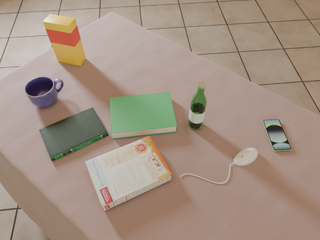book: (39, 107, 108, 161), (110, 92, 177, 139)
bottle: (188, 82, 206, 130)
box: (85, 136, 172, 211), (43, 14, 86, 66)
cup: (25, 77, 64, 107)
mouse: (234, 148, 258, 165)
phone: (263, 119, 291, 151)
